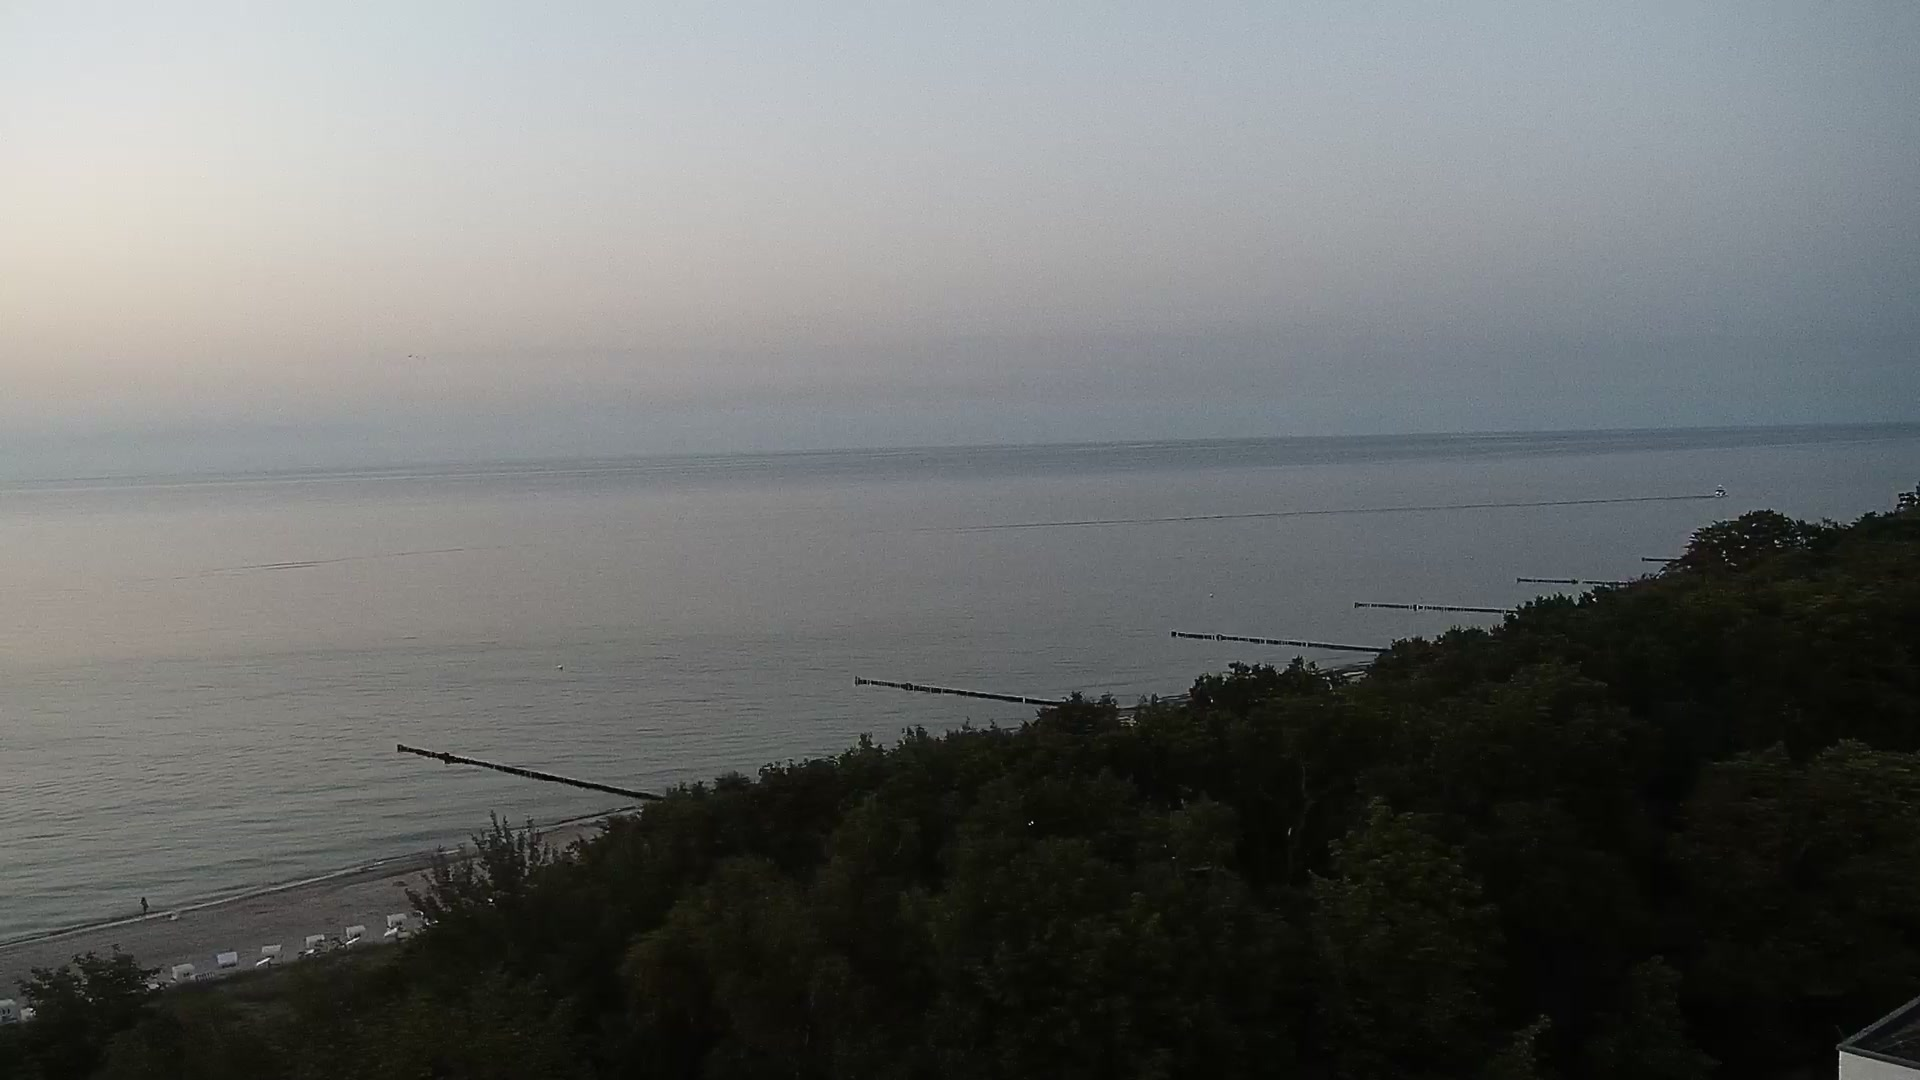human: (139, 895, 149, 915)
sea: (1711, 484, 1729, 499)
